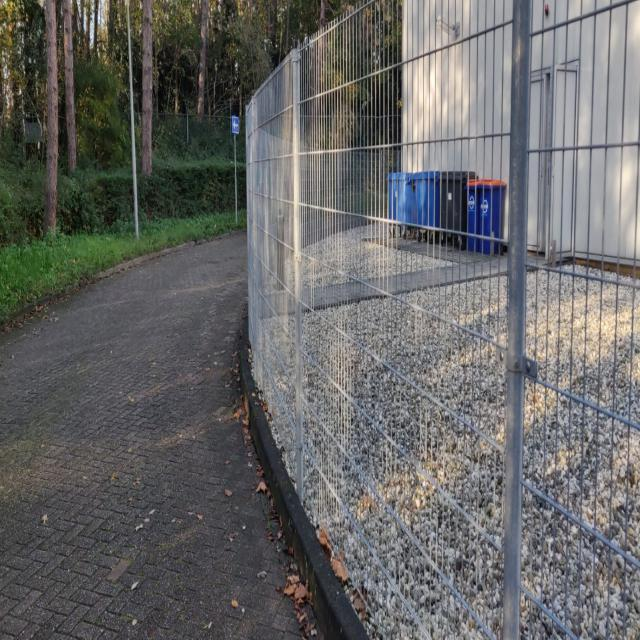fence line: (235, 47, 640, 639)
